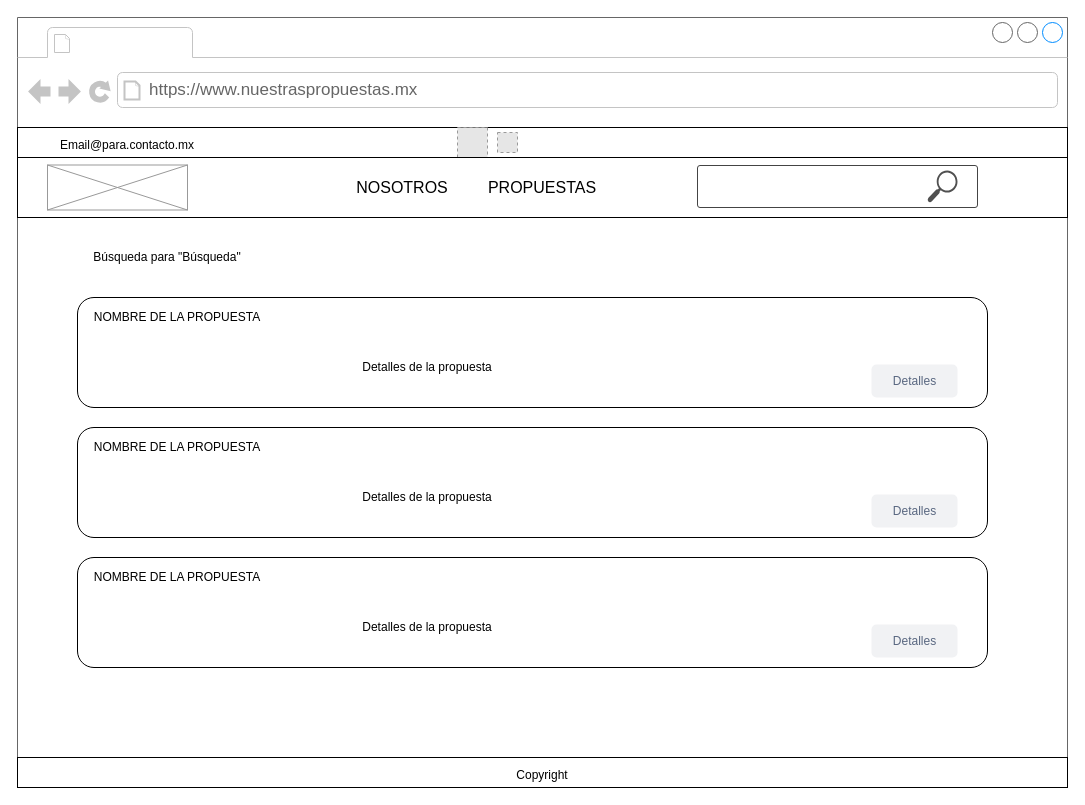
This 1085x805 diagram has some shape labels left out. Grey dashed boxes stand in for pictures. The shapes that lost their labels are listed below. From the top down, each one's box as (x1, y1, x2, y2) in pixels, then its label:
(76, 28, 188, 56): Búsquedas
(696, 164, 978, 208): Busca propuestas
